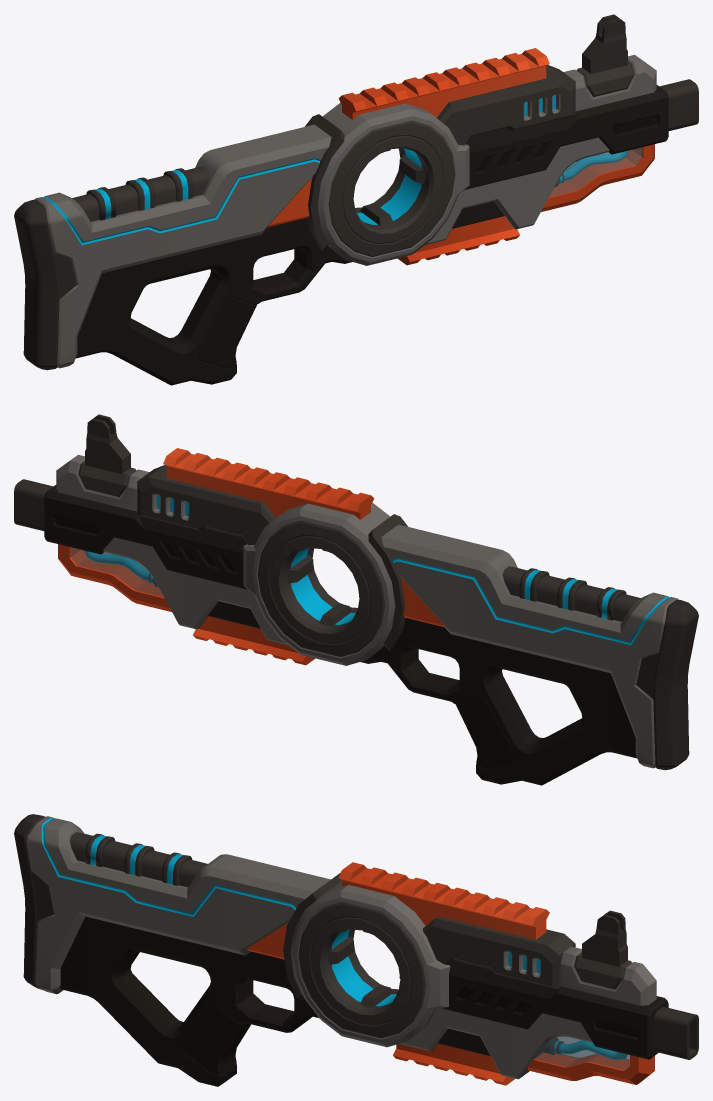
Rendered from SMG9_Base.fbx.
3 views of the same model, one above another, from view 1: azimuth 30°, elevation 25°; view 2: azimuth 150°, elevation 25°; view 3: azimuth 330°, elevation 25° (orthographic).
Visible parts, largest first — view 1: SMG9_Base; view 2: SMG9_Base; view 3: SMG9_Base.
Part boxes in pixels (x1,y1,x2,y2): SMG9_Base: [14, 14, 698, 385]; SMG9_Base: [14, 414, 698, 785]; SMG9_Base: [14, 814, 698, 1086].
Size of the model in its own units: 58.08 by 21.6 by 4.94.
